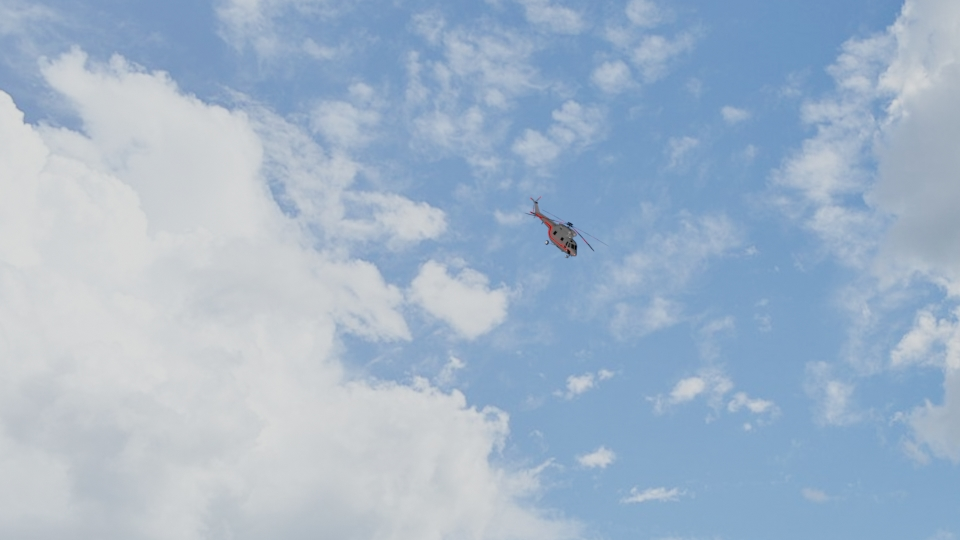heli: (525, 191, 593, 260)
